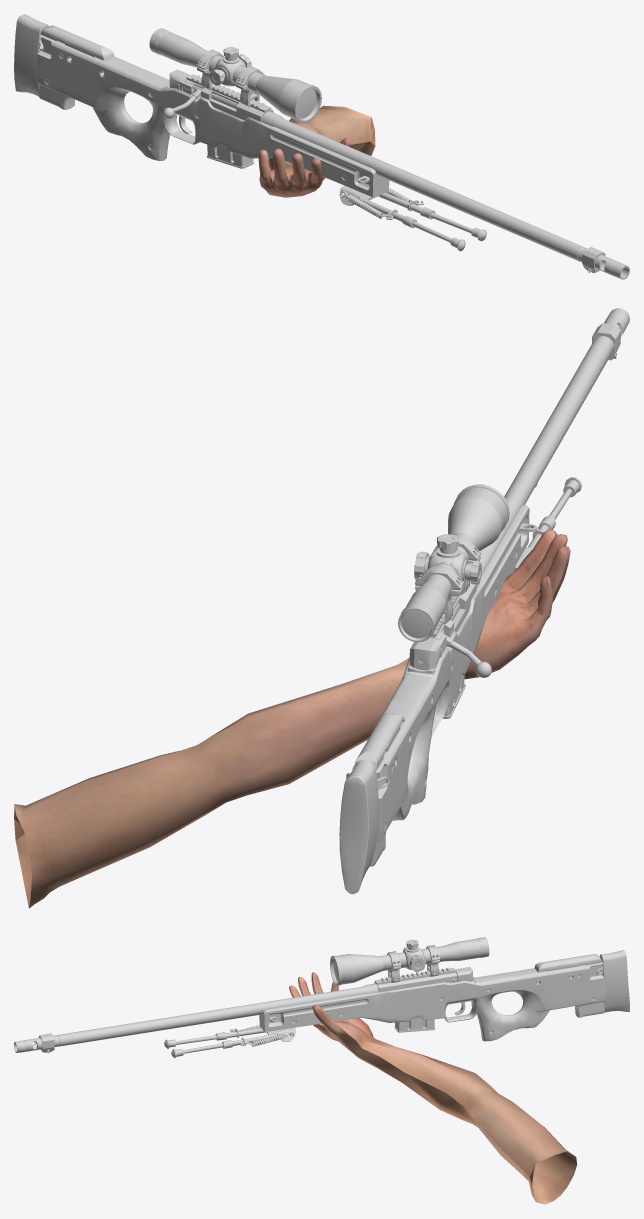
The model's file is awp.glb.
3 renders of one model, top to bottom at view 1: azimuth 30°, elevation 25°; view 2: azimuth 150°, elevation 25°; view 3: azimuth 270°, elevation 25°, orthographic. The views are drawn at different scales.
Visible parts, largest first — view 1: Object_2, Object_15; view 2: Object_15, Object_2; view 3: Object_2, Object_15.
Part boxes in pixels (x1=…): Object_2: x1=14, y1=14, x2=629, y2=279; Object_15: x1=258, y1=105, x2=375, y2=197; Object_15: x1=14, y1=529, x2=570, y2=908; Object_2: x1=339, y1=308, x2=629, y2=894; Object_2: x1=14, y1=937, x2=629, y2=1058; Object_15: x1=289, y1=972, x2=577, y2=1204.
Size of the model in its own units: 1.1 by 0.8301 by 2.5.
2 materials, 1 textured.
